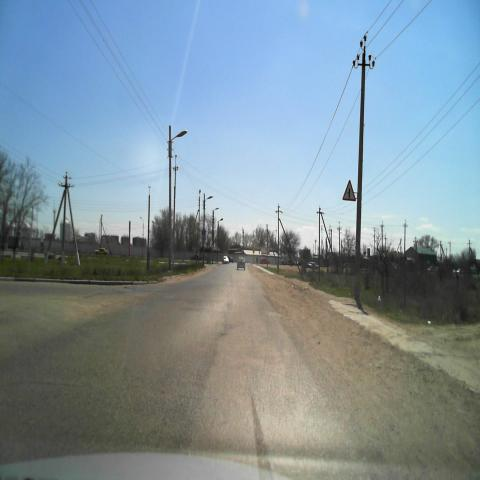2_3_3: (342, 179, 356, 201)
4_1_1: (202, 228, 206, 236)
